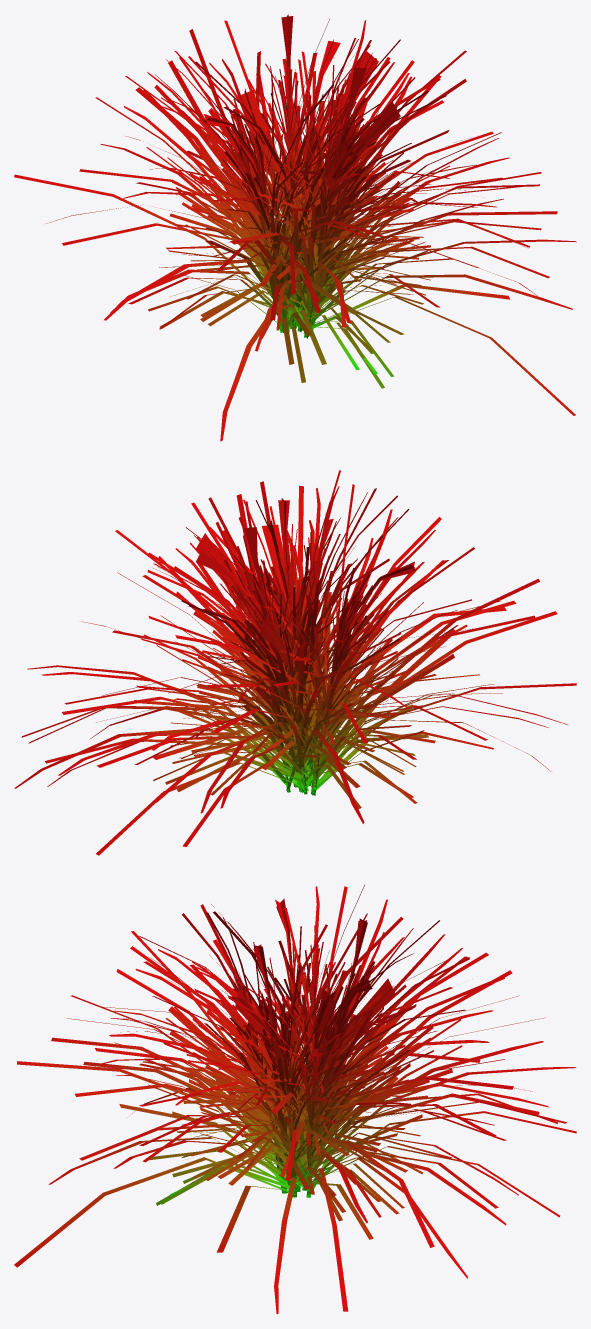
The model's file is Basket Grass_LOD3_Var3_slfpffjr.fbx.
The picture shows the model from 3 angles, top to bottom: view 1: azimuth 30°, elevation 25°; view 2: azimuth 150°, elevation 25°; view 3: azimuth 270°, elevation 25°; orthographic projection.
Visible parts, largest first — view 1: _ac9d_Var3_LOD3; view 2: _ac9d_Var3_LOD3; view 3: _ac9d_Var3_LOD3.
Part boxes in pixels (<box>): _ac9d_Var3_LOD3: <box>14,14,576,441</box>; _ac9d_Var3_LOD3: <box>14,470,576,855</box>; _ac9d_Var3_LOD3: <box>14,884,576,1313</box>.
Size of the model in its own units: 71.64 by 42.31 by 72.7.
